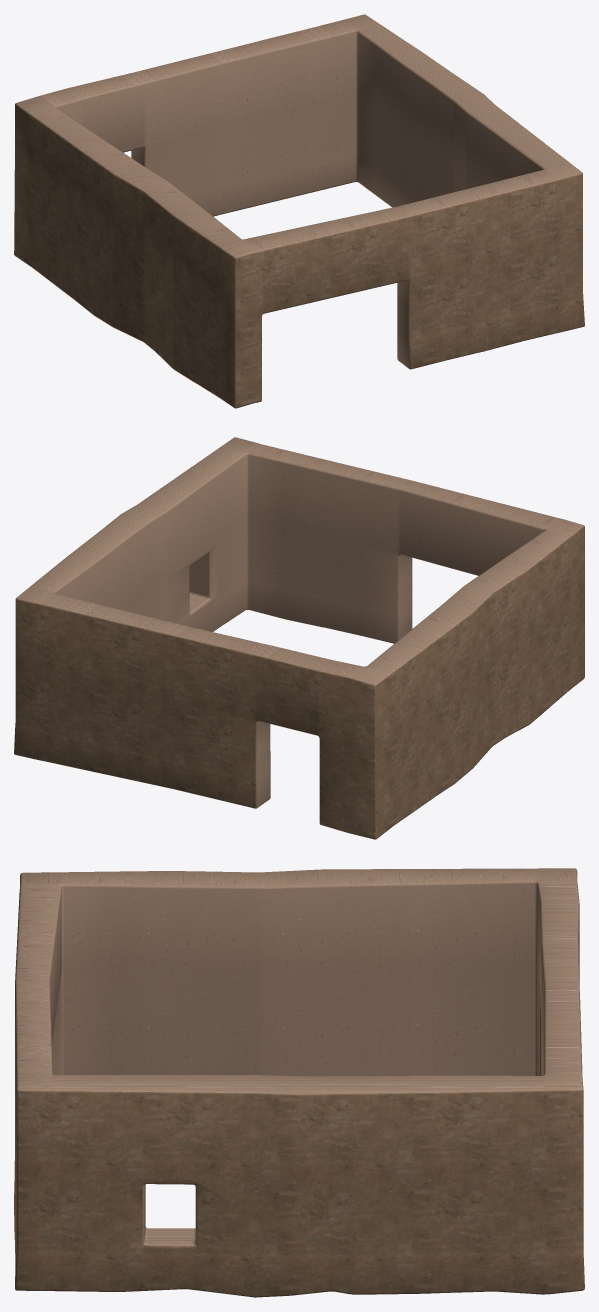
Rendered from Room_G_wall.gltf.
3 views of the same model, one above another, from view 1: azimuth 30°, elevation 25°; view 2: azimuth 150°, elevation 25°; view 3: azimuth 270°, elevation 25° (orthographic). The views are drawn at different scales.
Visible parts, largest first — view 1: Room_G_wall_Plane.013; view 2: Room_G_wall_Plane.013; view 3: Room_G_wall_Plane.013.
Part boxes in pixels (bbox=[...]): Room_G_wall_Plane.013: bbox=[14, 14, 584, 408]; Room_G_wall_Plane.013: bbox=[14, 437, 584, 839]; Room_G_wall_Plane.013: bbox=[14, 868, 584, 1297].
Size of the model in its own units: 5.25 by 2.21 by 5.52.
2 materials, 2 textured.
